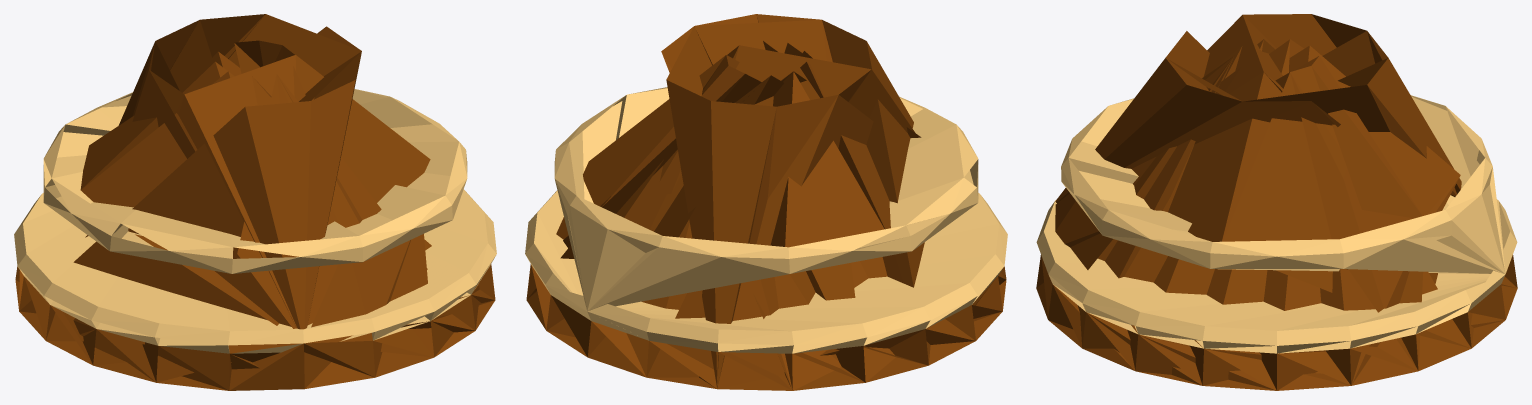
Rendered from S.S._Dolphin_Chronos_Reactor_1.obj.
The picture shows the model from 3 angles, left to right: view 1: azimuth 30°, elevation 25°; view 2: azimuth 150°, elevation 25°; view 3: azimuth 270°, elevation 25°; orthographic projection.
Parts seen in each view (by area): view 1: S.S._Dolphin_Chronos_Reactor_1; view 2: S.S._Dolphin_Chronos_Reactor_1; view 3: S.S._Dolphin_Chronos_Reactor_1.
Part boxes in pixels (x1,y1,x2,y2): S.S._Dolphin_Chronos_Reactor_1: (14, 14, 496, 390); S.S._Dolphin_Chronos_Reactor_1: (525, 14, 1007, 390); S.S._Dolphin_Chronos_Reactor_1: (1036, 14, 1517, 390).
Bounding box in the file's own units: 2.21 × 1.17 × 2.17.
